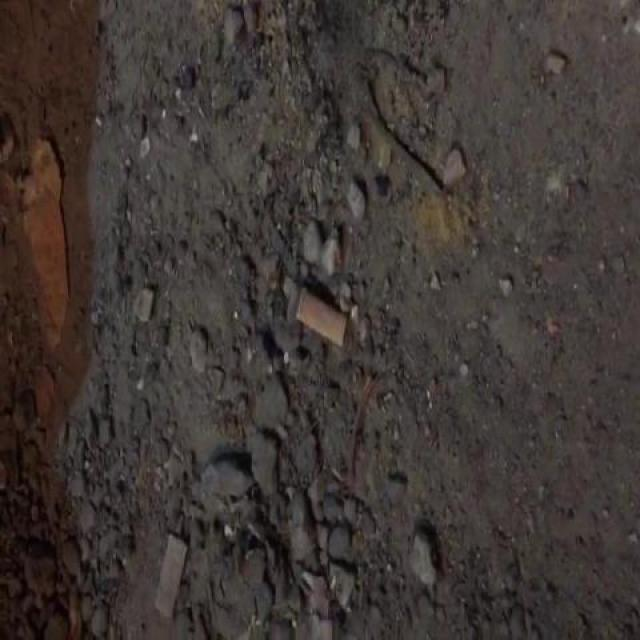non-organic waste: (290, 280, 354, 356), (149, 523, 191, 622)
